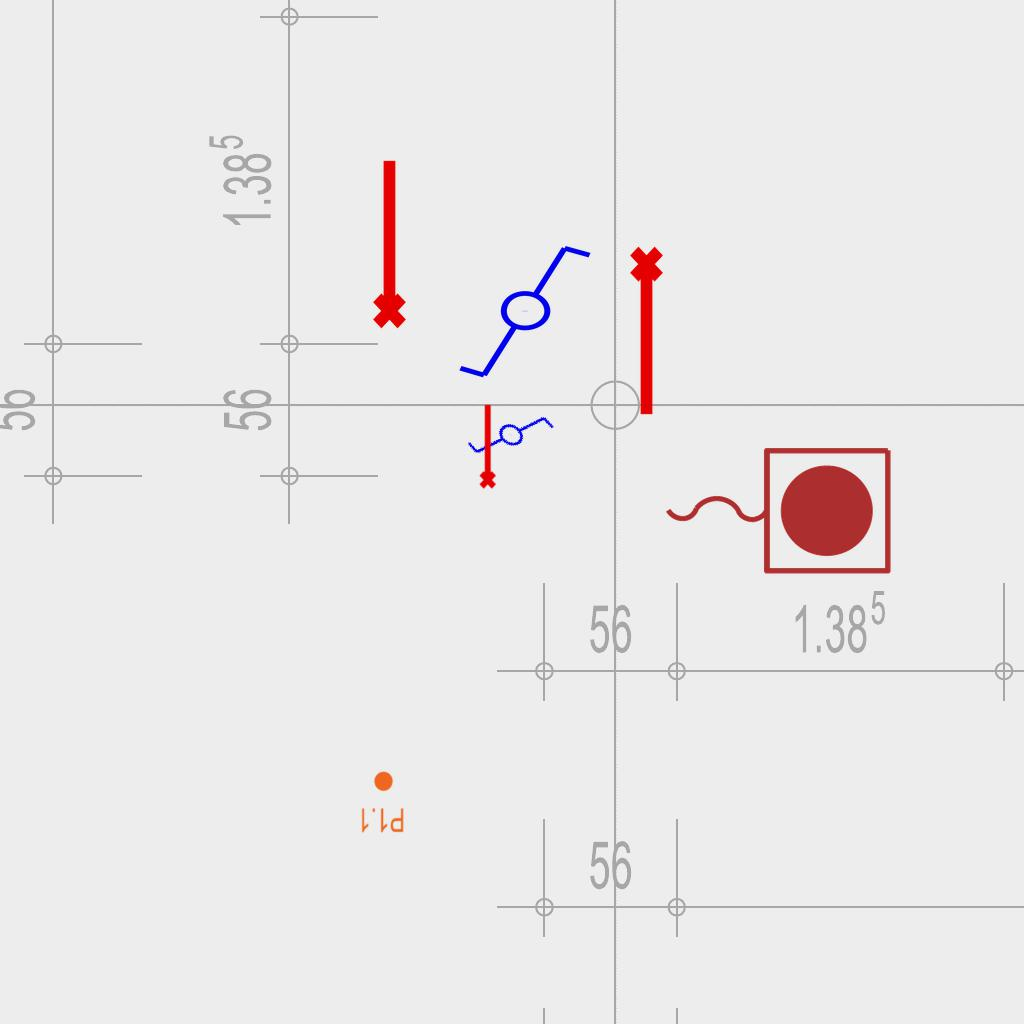ASR_Ansaugoeffnung: (364, 155, 410, 331), (626, 244, 672, 420), (475, 402, 498, 490)
Downlight_LED_Einbauleuchten_Flur: (359, 770, 405, 834)
Wechselschalter: (455, 241, 612, 385), (462, 387, 566, 489)
Zugtaster: (655, 437, 899, 581)
